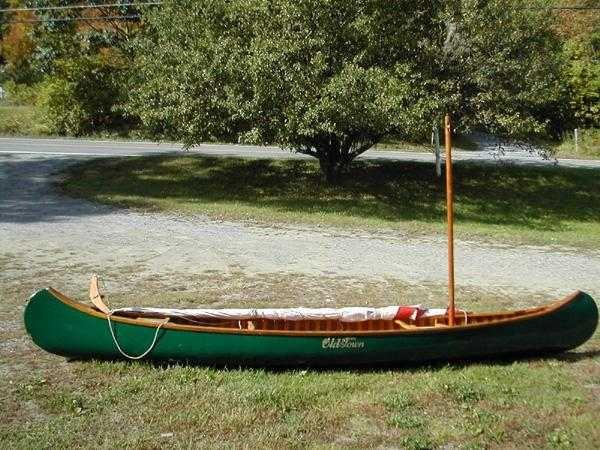kayak: (27, 108, 597, 365), (24, 275, 596, 371)
